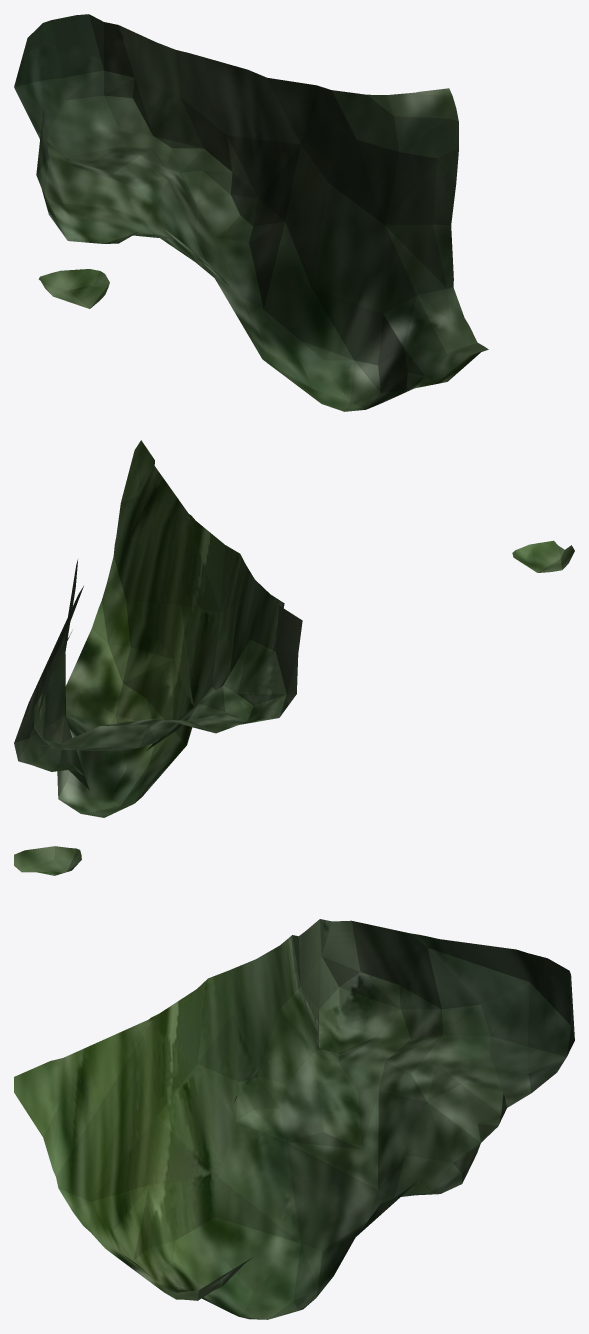
3 views of the same model, one above another, from view 1: azimuth 30°, elevation 25°; view 2: azimuth 150°, elevation 25°; view 3: azimuth 270°, elevation 25° (orthographic). The views are drawn at different scales.
Size of the model in its own units: 2.11 by 1.18 by 2.14.
Materials: 1 (1 with a texture image).
